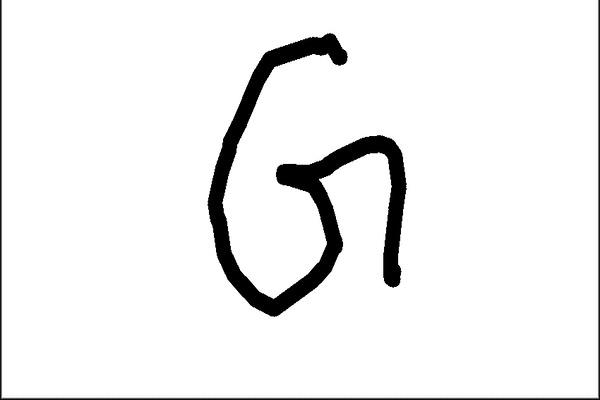G: (204, 27, 412, 320)
